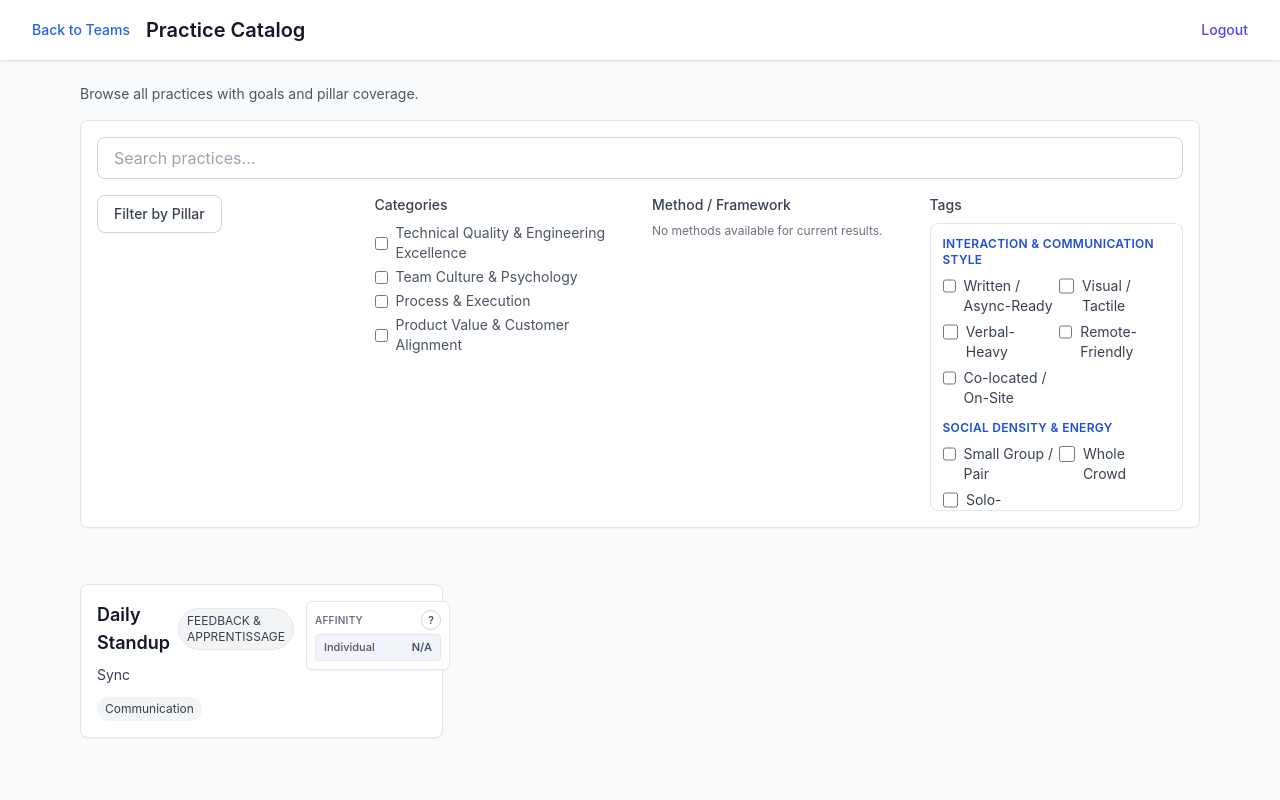
Test: PracticeCatalog › clears search input when clicking the clear button
In the field with placeholder "Search practices...": (640, 158) [97,137,1183,179], type "standup"
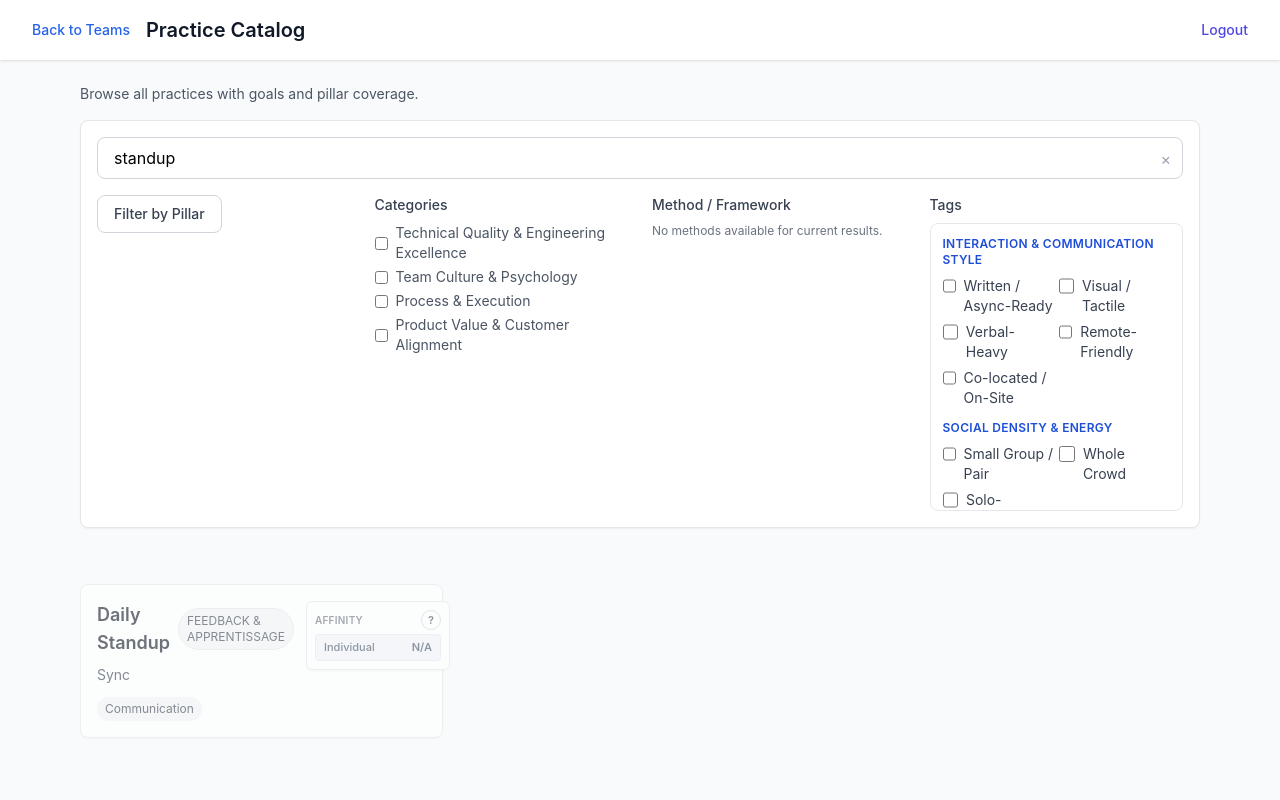
Click the button "×": (1166, 159) [1160,147,1171,171]
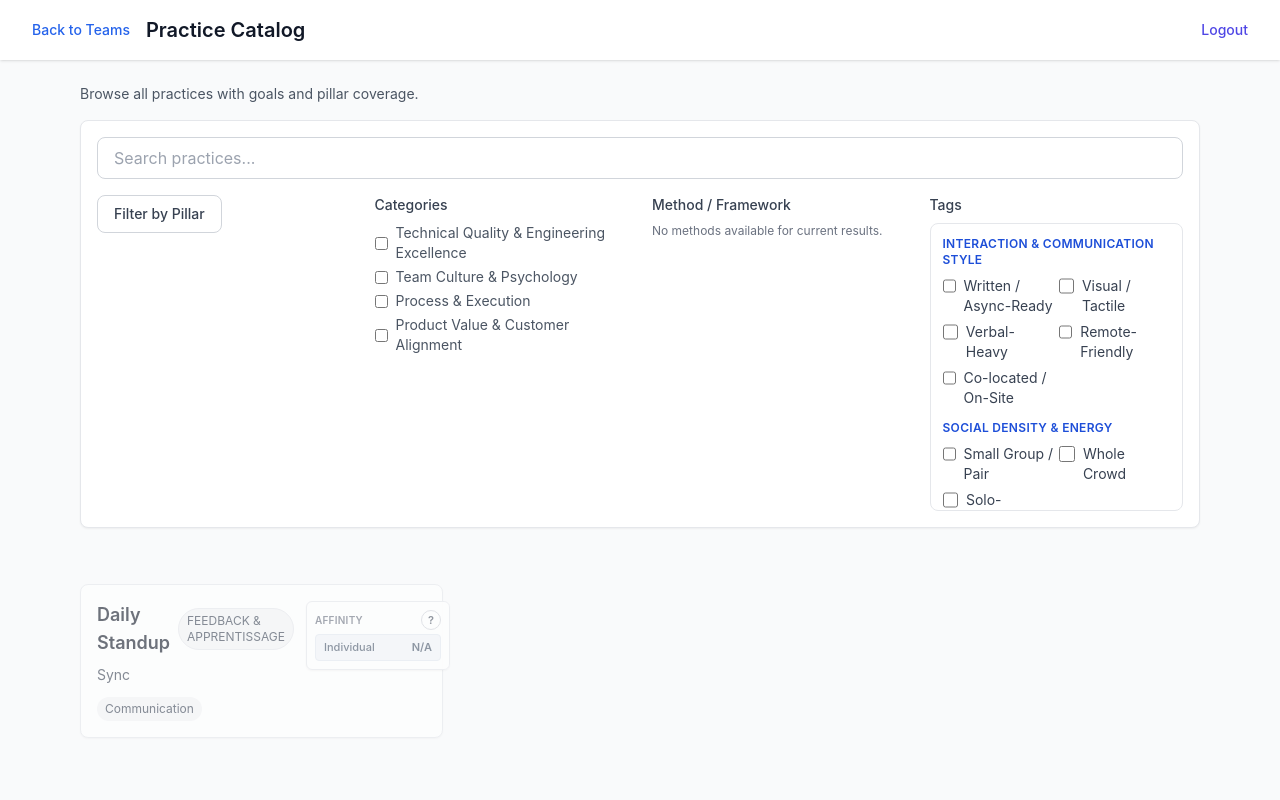
Now the field with placeholder "Search practices..." is empty, box [97,137,1183,179]
